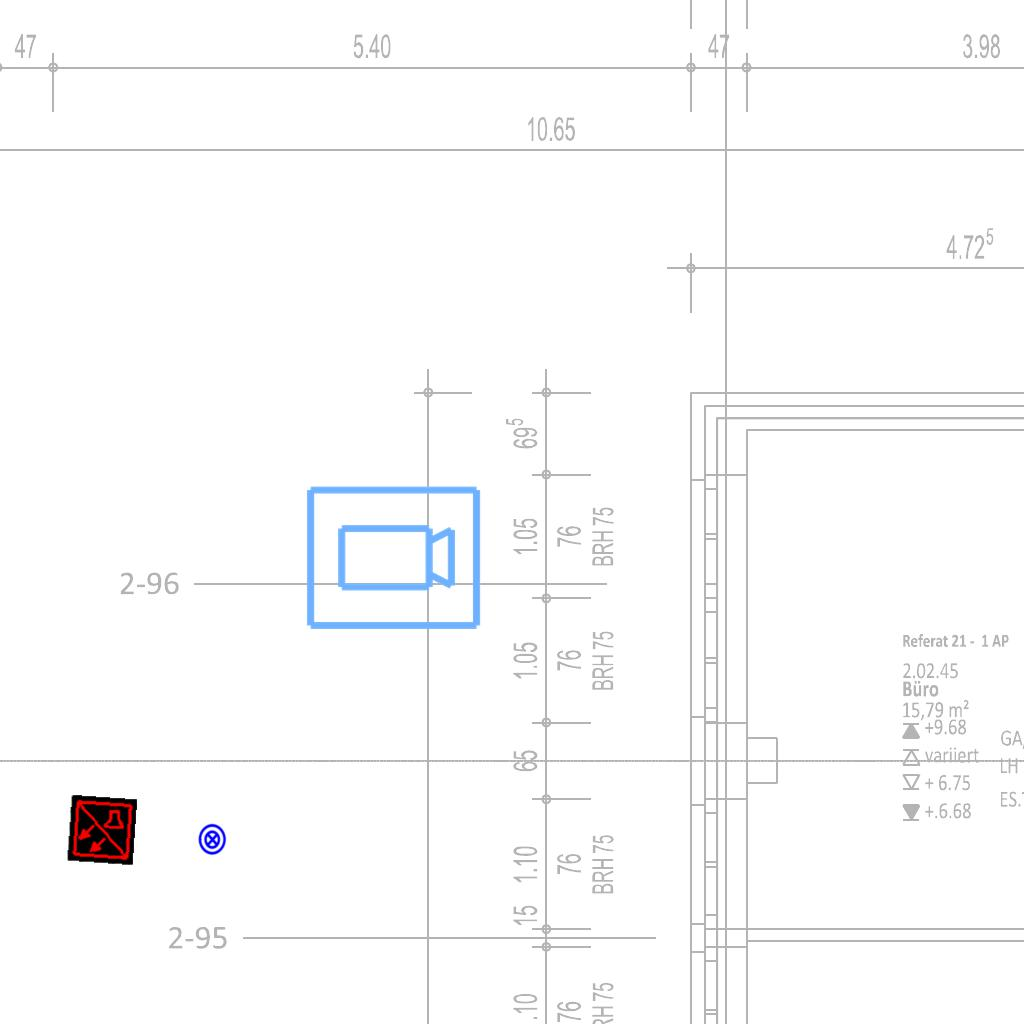KFO_Kamera_mit_Festobjektiv: (302, 482, 484, 636)
OKW_Multisensormelder_(Kombination_optischer_Rauch-Kahlenmonoxid_Waerme-Melder): (66, 794, 138, 866)
Taster_beleuchtet: (196, 823, 229, 856)
